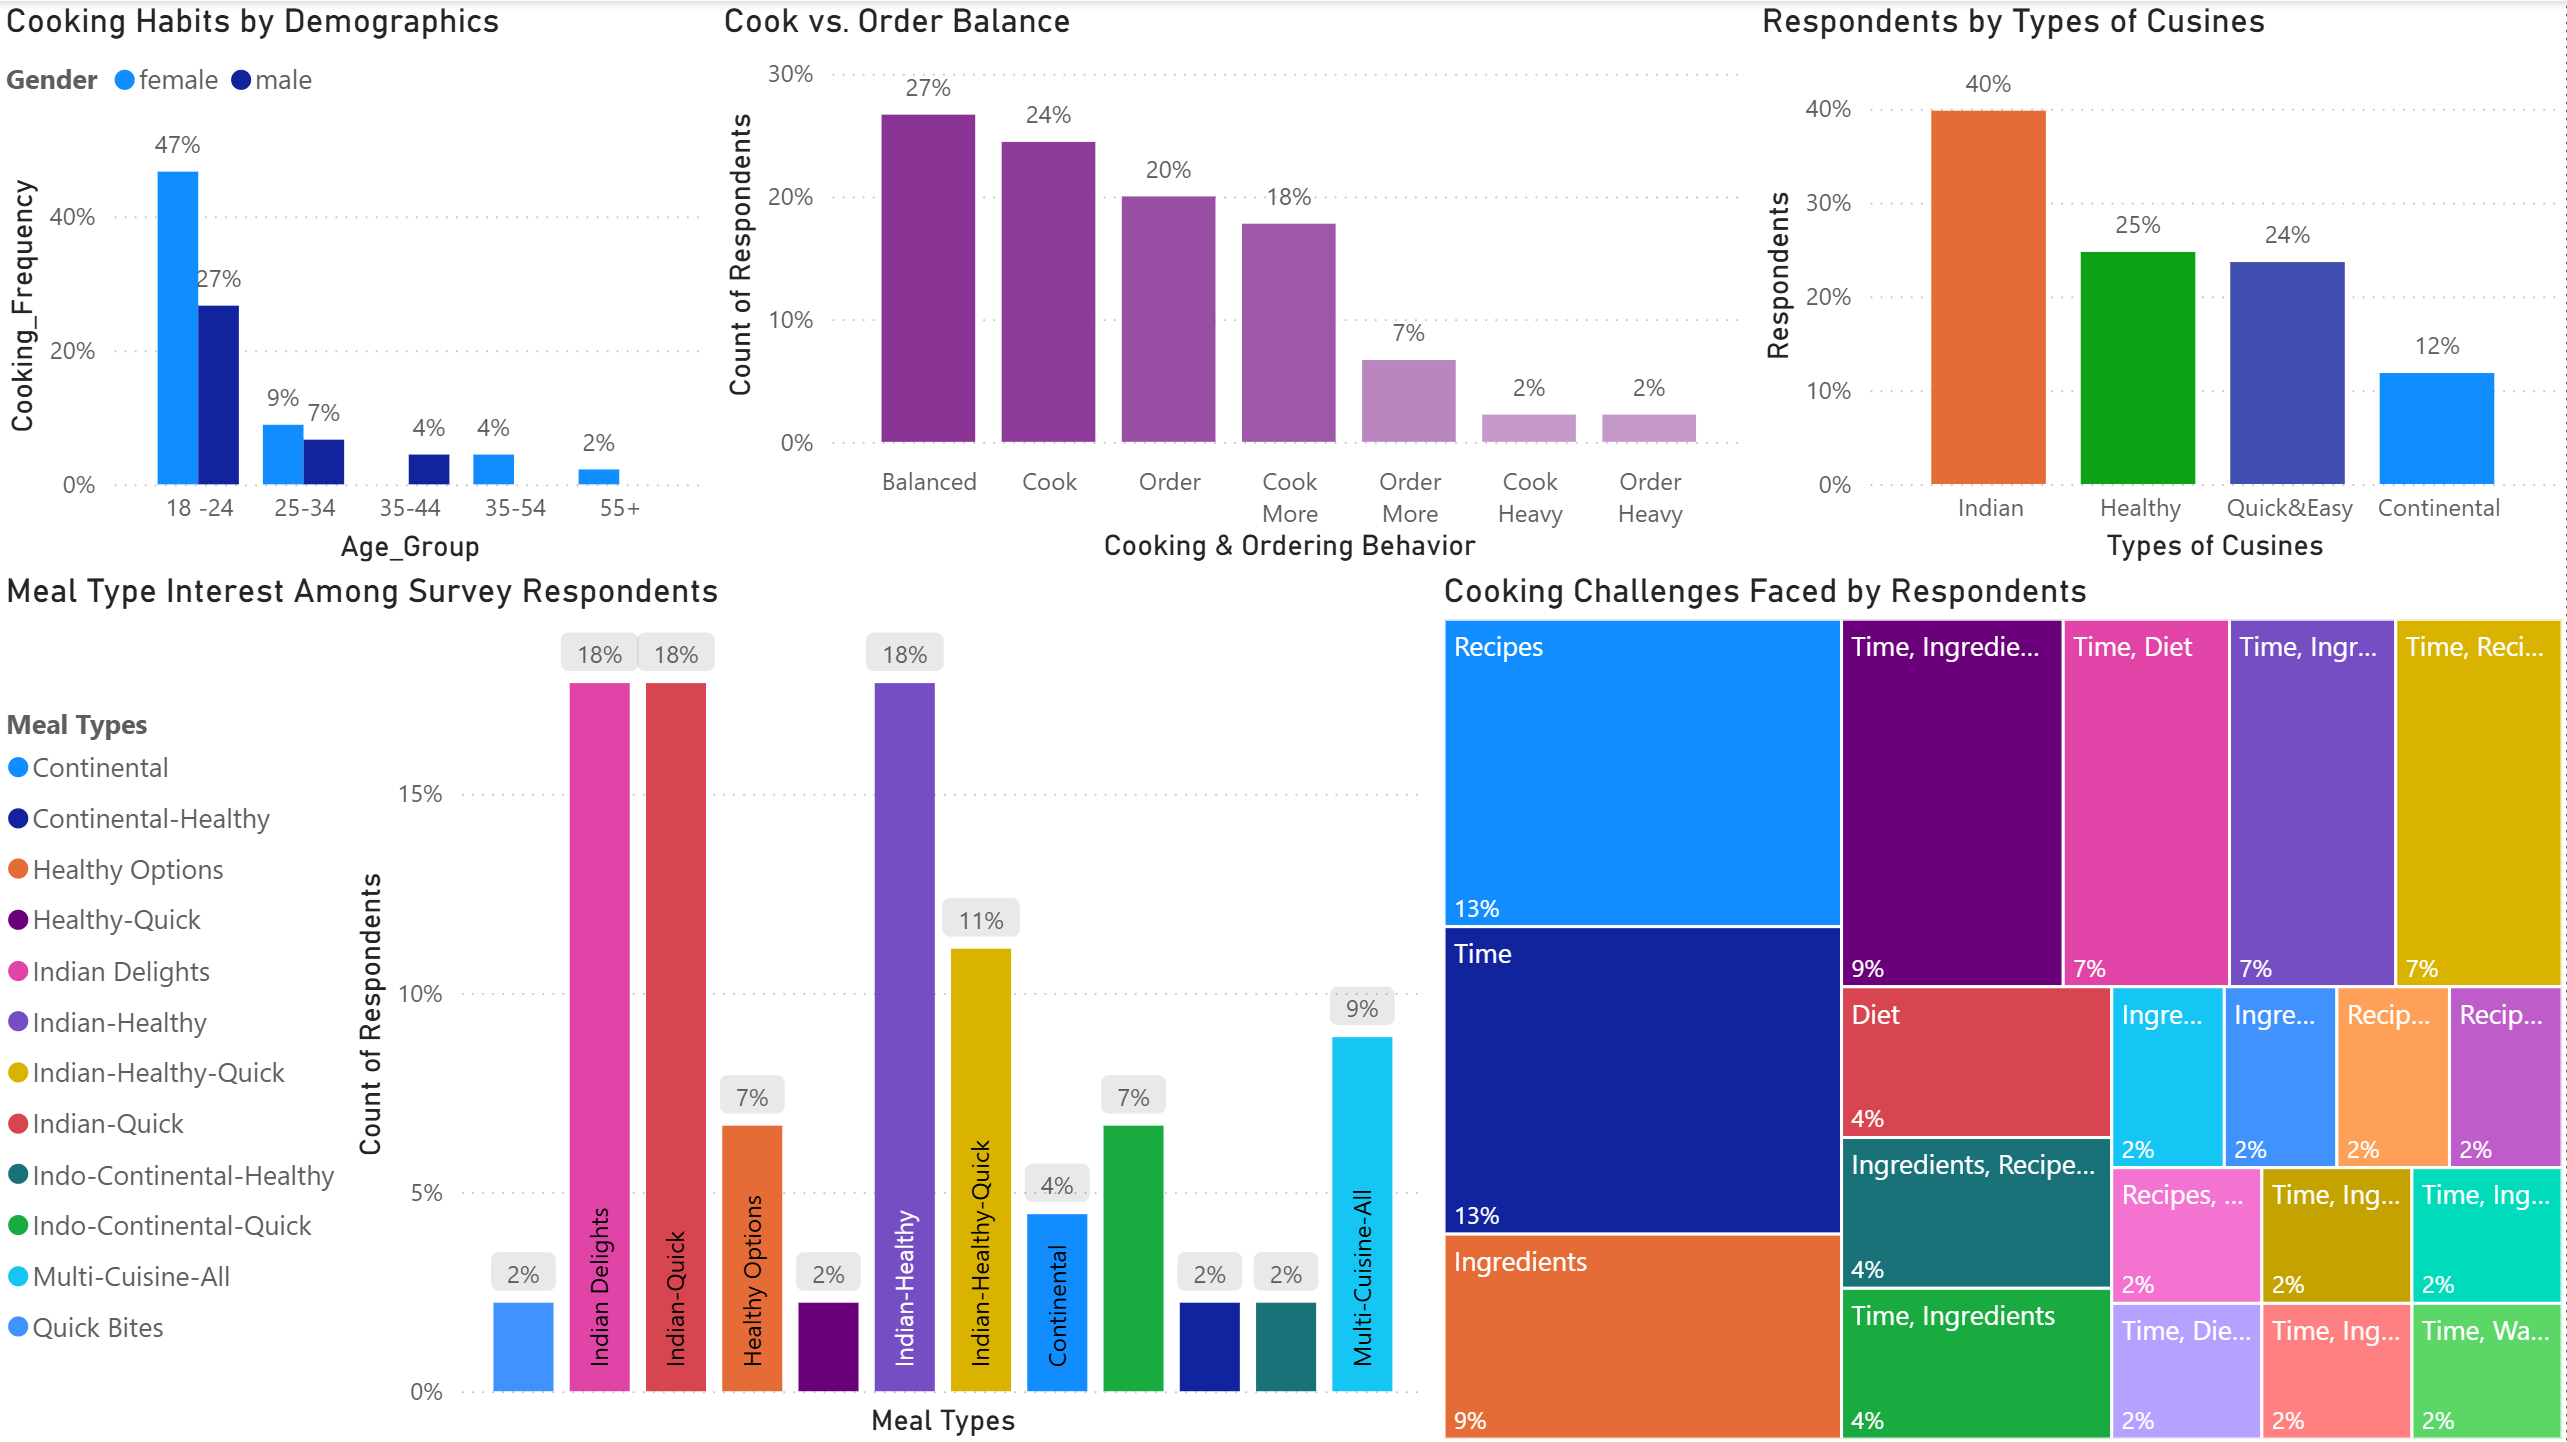

This screenshot's page, from the dashboard's own definition file:
{"tool":"powerbi","page":{"name":"Cooking Interest & Food Ordering Habits","canvas":[1280,720],"ordinal":0},"visuals":[{"type":"clusteredColumnChart","title":"Cook vs. Order Balance","fields":{"Category":["Form_Responses1.New Cook Order Balance"],"Y":["Sum(Form_Responses1.Respondents)"]},"box":[358,0,519.1,284],"z":1000},{"type":"treemap","title":"Cooking Challenges Faced by Respondents","fields":{"Values":["CountNonNull(Form_Responses1.Respondents)"],"Group":["Form_Responses1.New Cooking Challenges"]},"box":[716,284,566.7,437.2],"z":2000},{"type":"clusteredColumnChart","fields":{"Category":["Table.Types of Cusines"],"Y":["Sum(Table.Intrested respondents)"]},"box":[874.5,0,406.9,284],"z":3000},{"type":"columnChart","title":"Meal Type Interest Among Survey Respondents","fields":{"Y":["CountNonNull(Form_Responses1.Respondents)"],"Category":["Form_Responses1.Cooks_Continental","Form_Responses1.Cooks_Healthy_Diet","Form_Responses1.Cooks_Indian","Form_Responses1.Cooks_Quick_Easy"],"Series":["Form_Responses1.New Meal Types"]},"box":[0,284,716,435.9],"z":4000},{"type":"clusteredColumnChart","title":"Cooking Habits by Demographics","fields":{"Category":["Form_Responses1.Age_Group"],"Y":["CountNonNull(Form_Responses1.Cooking_Frequency_Ordinal)"],"Series":["Form_Responses1.Gender"]},"box":[0,0,358,284],"z":5000}]}

Visuals, with their boxes in screenshot pixels (x1, y1, x2, y2), scaled from the page's 1280x720 canvas onto the 2567x1442 screenshot:
"Cook vs. Order Balance" clusteredColumnChart: (left=718, top=0, right=1759, bottom=569)
"Cooking Challenges Faced by Respondents" treemap: (left=1436, top=569, right=2566, bottom=1441)
clusteredColumnChart - Table.Types of Cusines x Sum(Table.Intrested respondents): (left=1754, top=0, right=2566, bottom=569)
"Meal Type Interest Among Survey Respondents" columnChart: (left=0, top=569, right=1436, bottom=1441)
"Cooking Habits by Demographics" clusteredColumnChart: (left=0, top=0, right=718, bottom=569)
